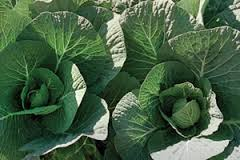cabbage: (158, 78, 216, 135), (22, 74, 62, 120)
